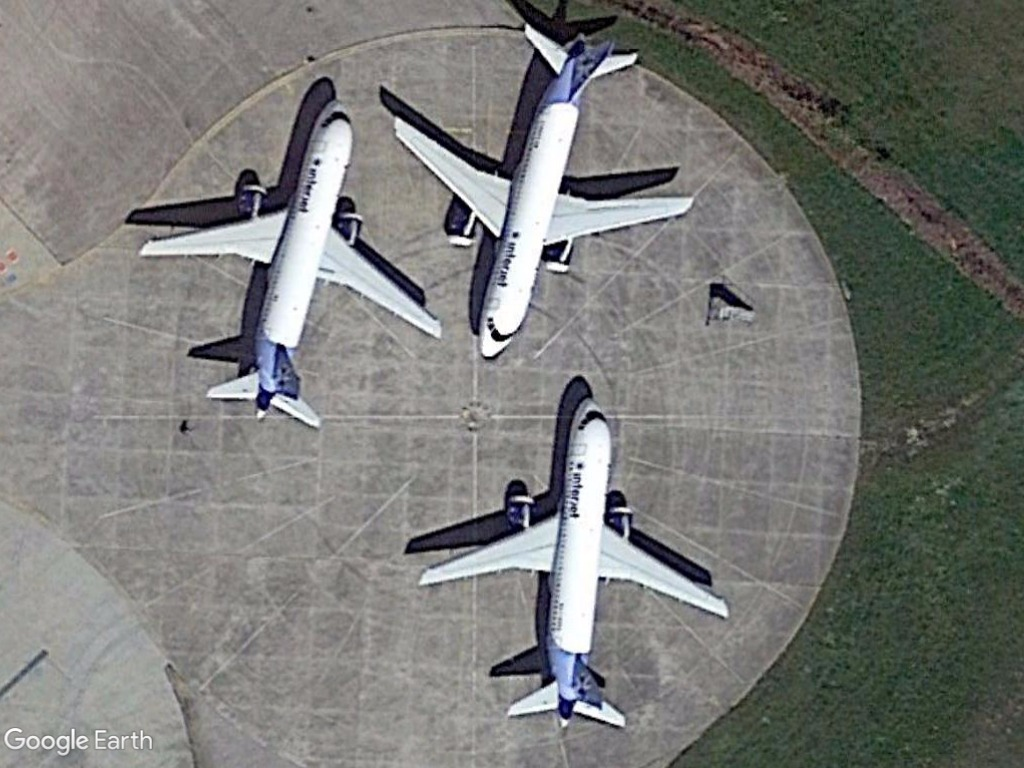airliner: (415, 387, 728, 744), (383, 16, 698, 370), (132, 95, 453, 431)
